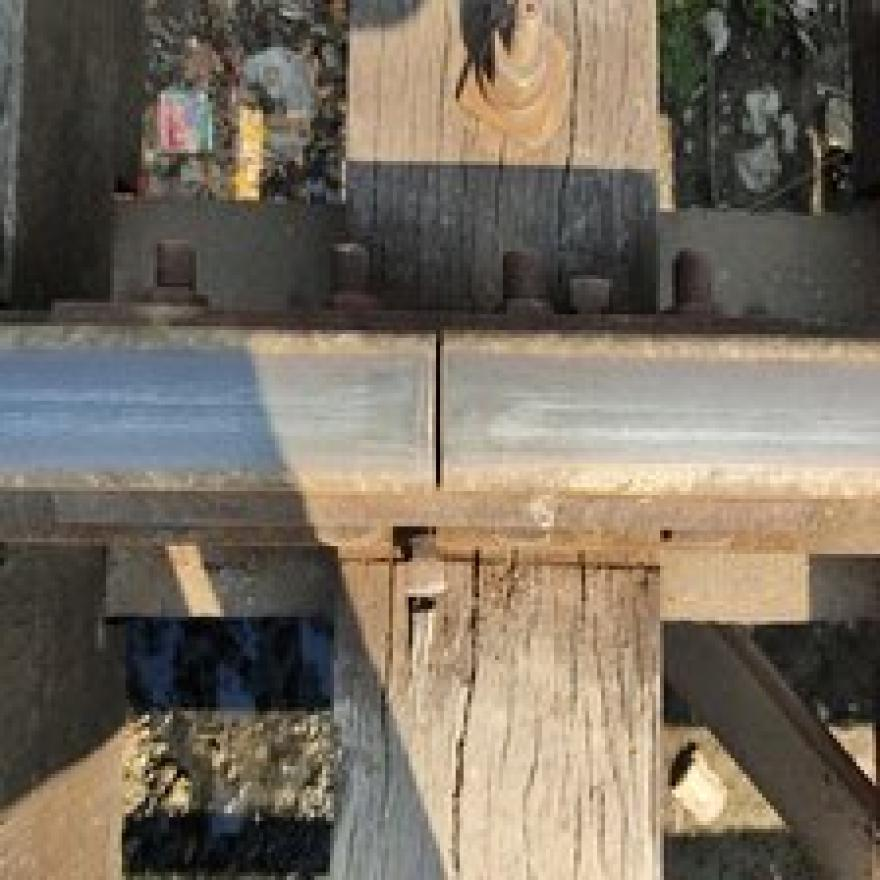railway-gap: (322, 305, 553, 513)
